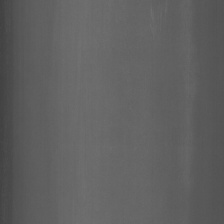silk_spot: (145, 5, 173, 45)
